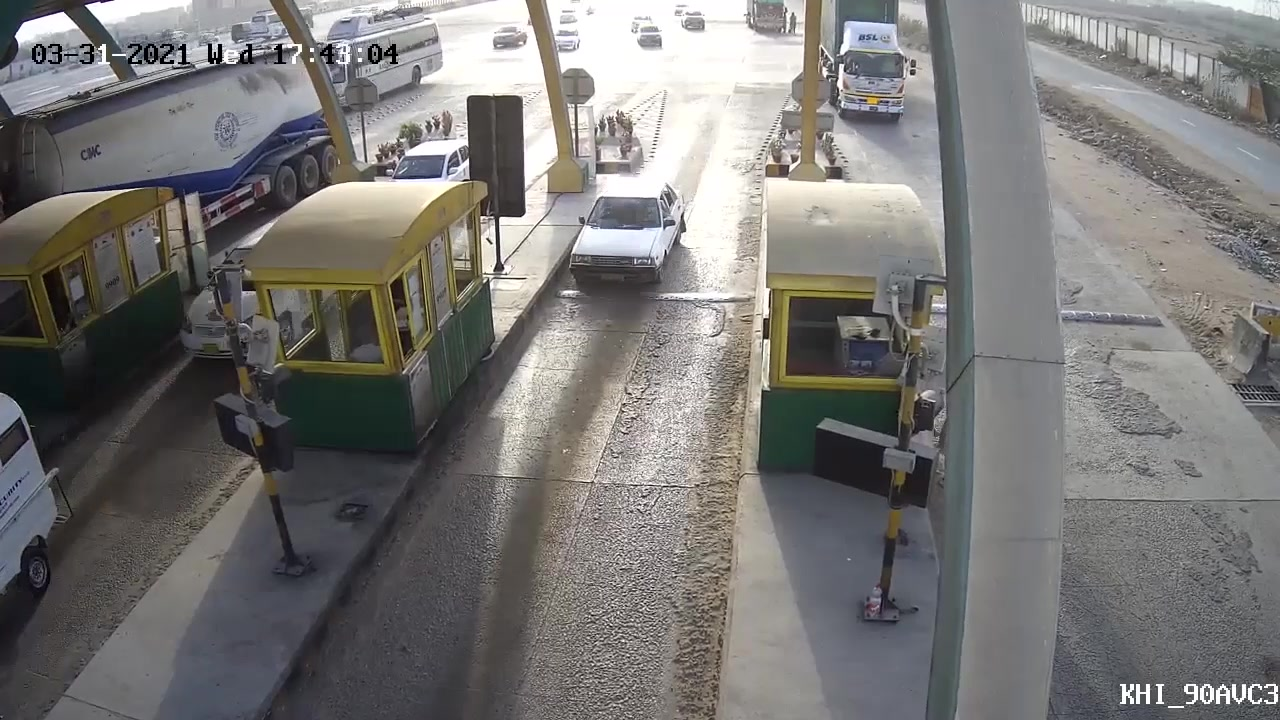F1: (566, 177, 703, 304)
